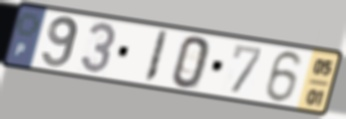0: (170, 34, 211, 91)
3: (78, 21, 117, 76)
6: (263, 49, 305, 105)
7: (230, 42, 265, 96)
9: (40, 15, 79, 70)
I: (141, 29, 170, 86)
